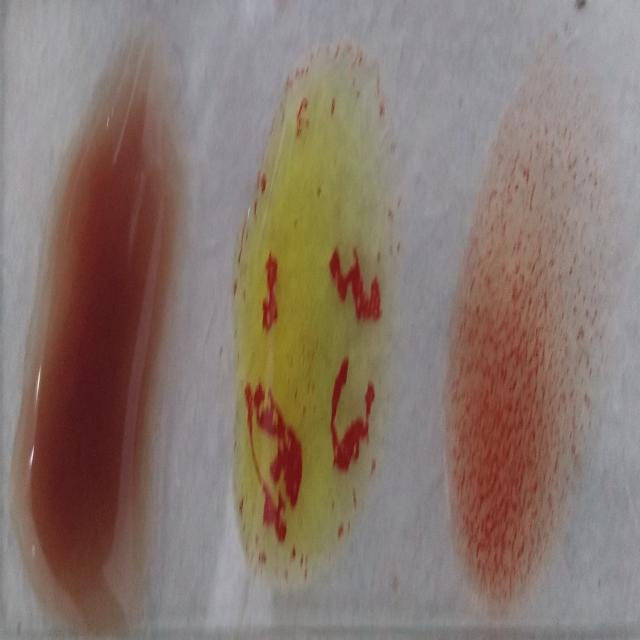B: (228, 65, 391, 590)
D: (445, 91, 596, 590)
